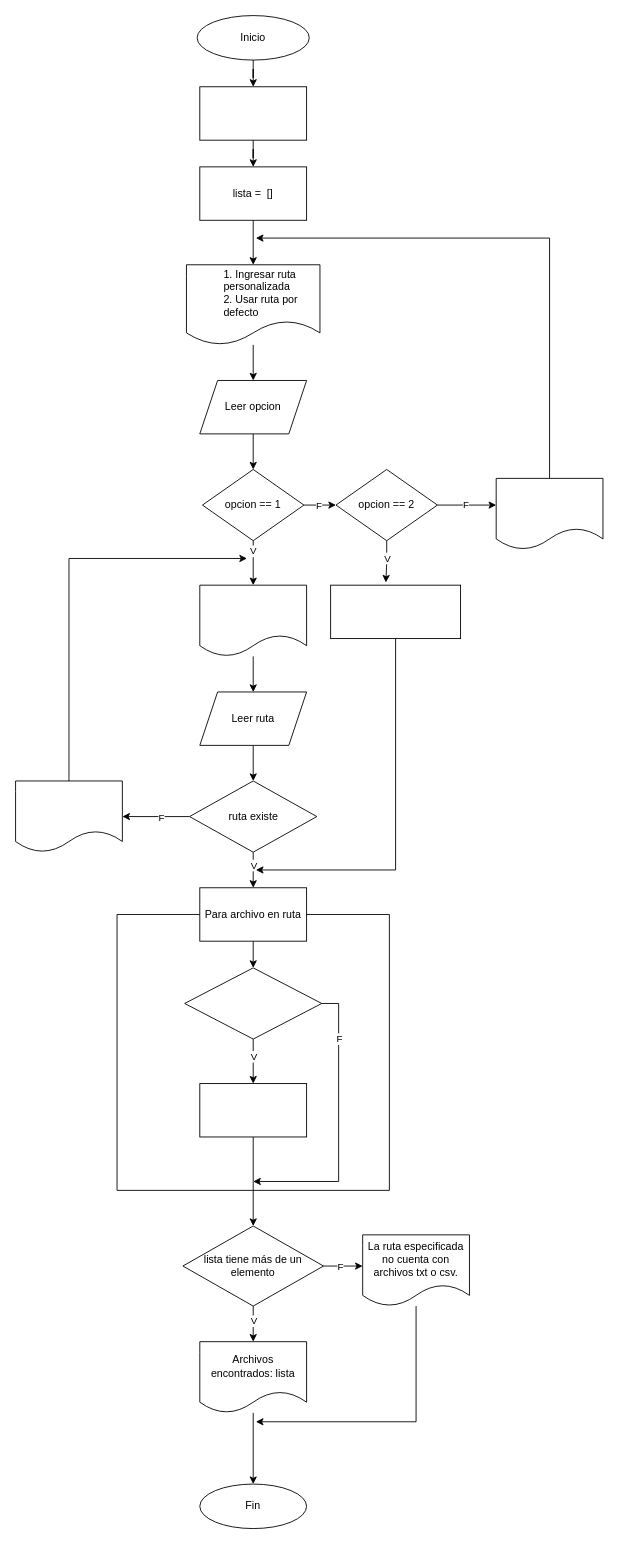
The diagram is 619 pixels wide and 1544 high, and some of its shapes have lost their labels. Here are the shapes that lost their labels. From the top down, the centre of each, then its label:
point (253, 113): Definir explorar_directorio()
point (549, 513): Opción inválida
point (253, 620): Ingrese la ruta usando \\ entre directorios
point (395, 611): ruta = .\\Reto\\Archivos_Reto
point (68, 816): Ruta inválida
point (253, 1003): archivo es .txt ó .csv
point (253, 1110): Añadir archivo a lista
